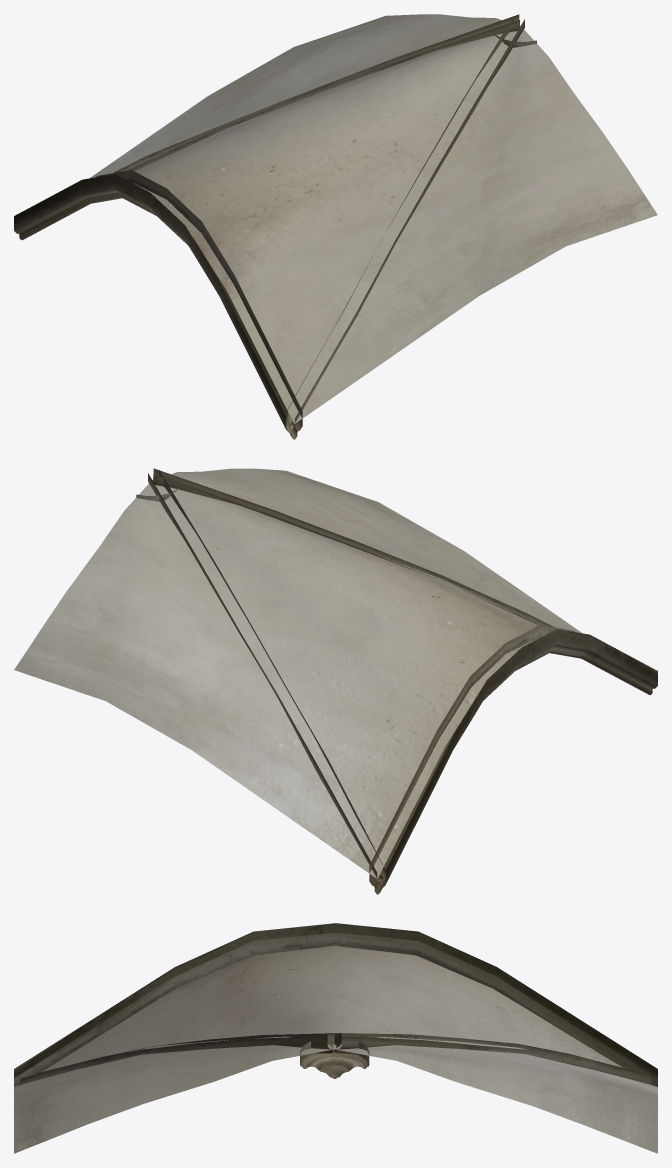
File: sm_Ceiling_01_03.fbx
3 renders of one model, top to bottom at view 1: azimuth 30°, elevation 25°; view 2: azimuth 150°, elevation 25°; view 3: azimuth 270°, elevation 25°, orthographic. The views are drawn at different scales.
Parts seen in each view (by area): view 1: sm_Ceiling_01_03_LOD0; view 2: sm_Ceiling_01_03_LOD0; view 3: sm_Ceiling_01_03_LOD0.
Boxes of the visible parts, x1,y1,x2,y2 form: sm_Ceiling_01_03_LOD0: [14, 14, 657, 439]; sm_Ceiling_01_03_LOD0: [14, 468, 657, 894]; sm_Ceiling_01_03_LOD0: [14, 923, 657, 1153].
Bounding box in the file's own units: 331 × 420 × 200.
